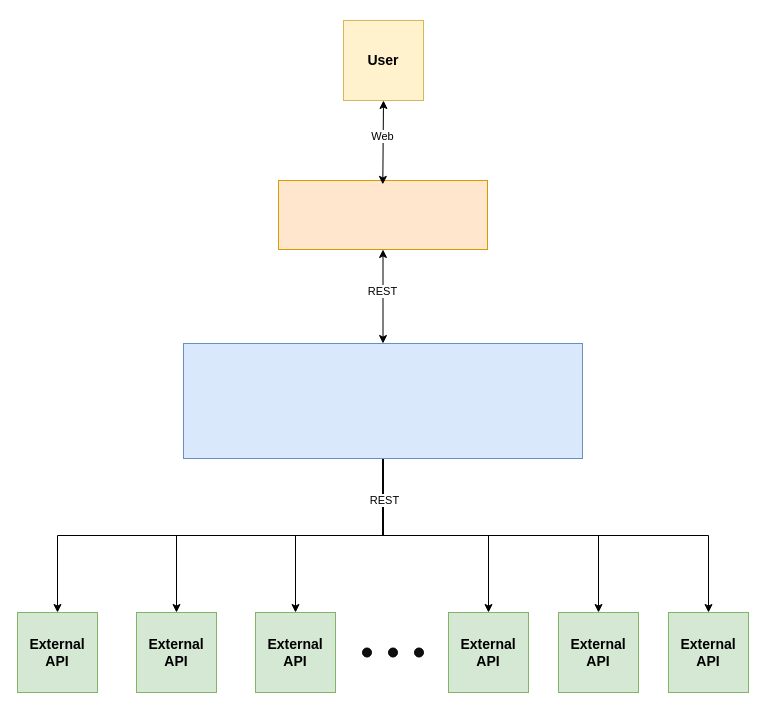
Some shapes in this 766 by 711 pixel diagram are drawn without their labels. The box of each missing label's shape, as (x1, y1, x2, y2) in pixels:
Backend Spring Boot - Java: (182, 342, 582, 458)
Frontend React + Vite: (278, 180, 488, 250)
